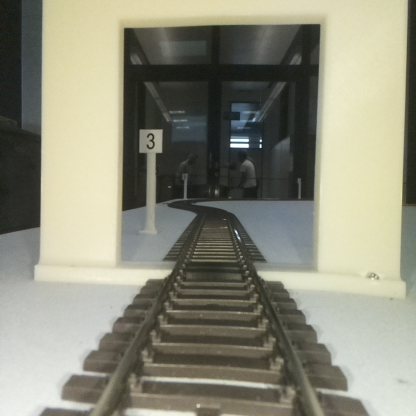white-info-3: (139, 128, 162, 235)
